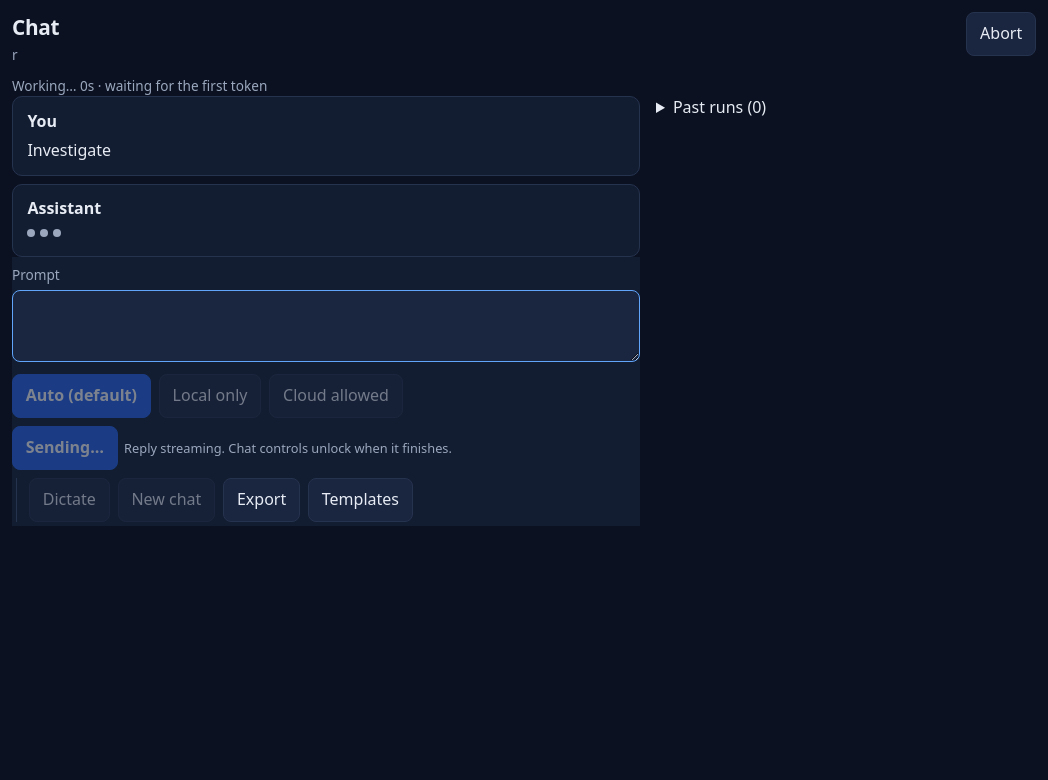
sends an explicit Now handoff exactly once in StrictMode (#1317)
This screenshot has width=1048, height=780.
Click the button with test id "chat-templates".
click(360, 500)  # box x1=308 y1=478 x2=413 y2=522
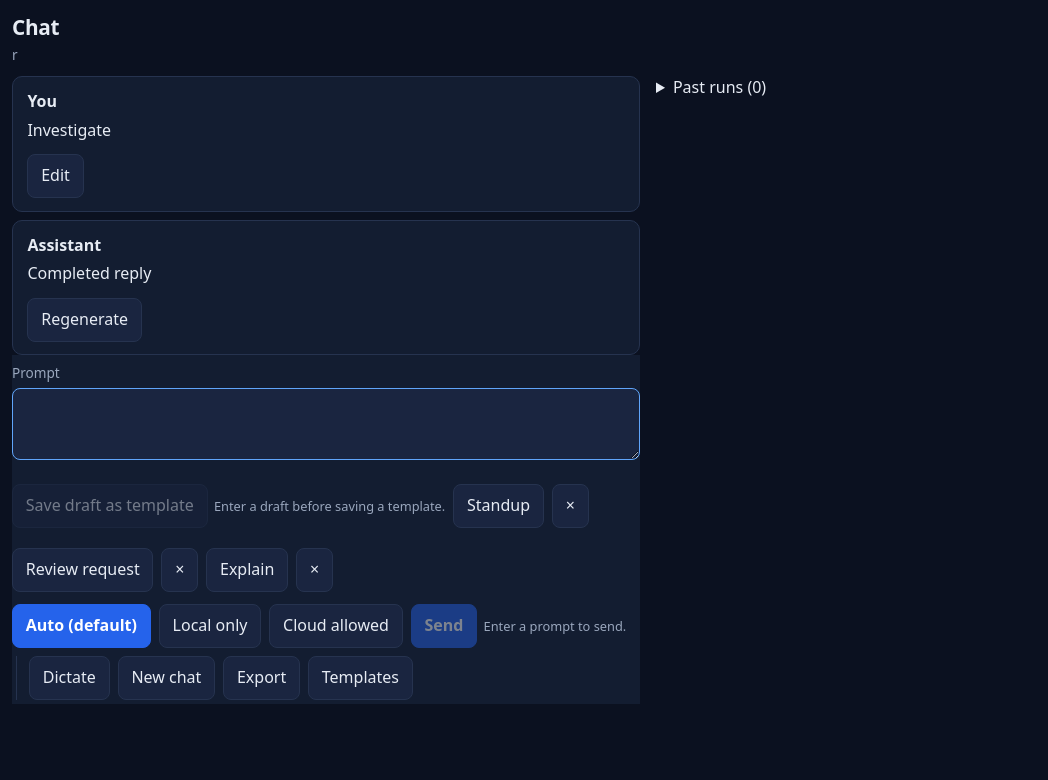
Result: the element with test id "chat-templates-panel" is shown at x1=12 y1=472 x2=640 y2=592
Result: the text "Completed reply" is shown at x1=27 y1=262 x2=151 y2=284
Result: the text "Reply streaming." is gone
